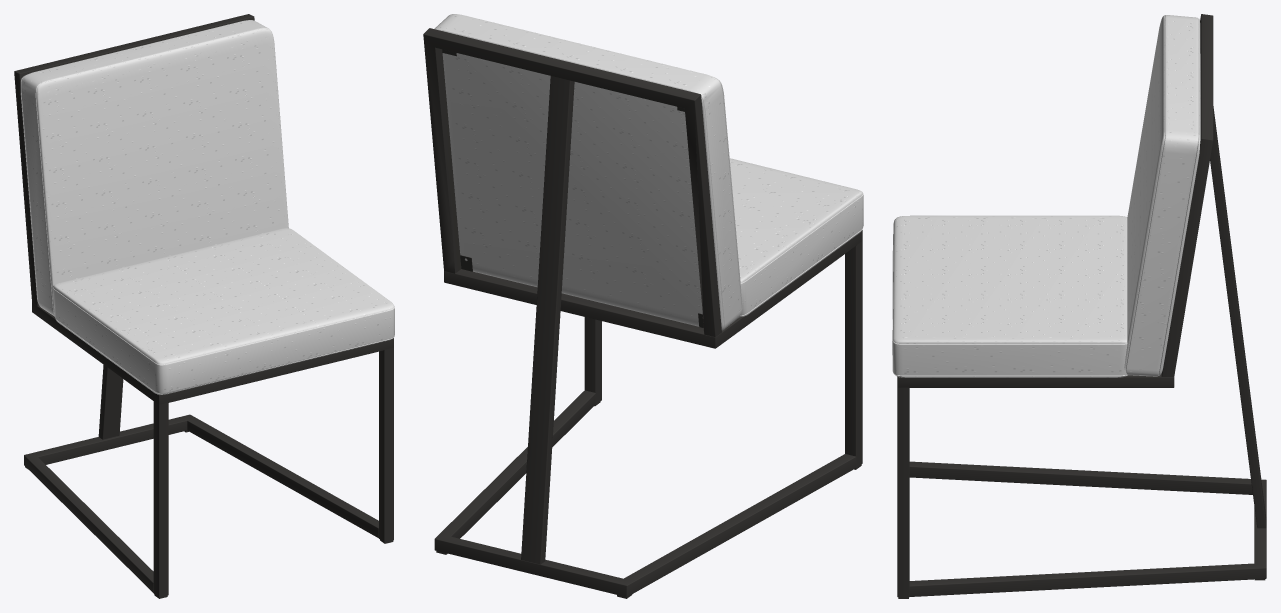
3 views of the same model, side by side, from view 1: azimuth 30°, elevation 25°; view 2: azimuth 150°, elevation 25°; view 3: azimuth 270°, elevation 25° (orthographic). The views are drawn at different scales.
Parts seen in each view (by area): view 1: C-skpB1B8; view 2: C-skpB1B8; view 3: C-skpB1B8.
Part boxes in pixels (left/top/right/bottom): C-skpB1B8: left=14, top=14, right=394, bottom=598; C-skpB1B8: left=423, top=14, right=863, bottom=598; C-skpB1B8: left=892, top=14, right=1266, bottom=598.
Bounding box in the file's own units: 0.4947 × 0.8422 × 0.6166.
Materials: 2 (1 with a texture image).
